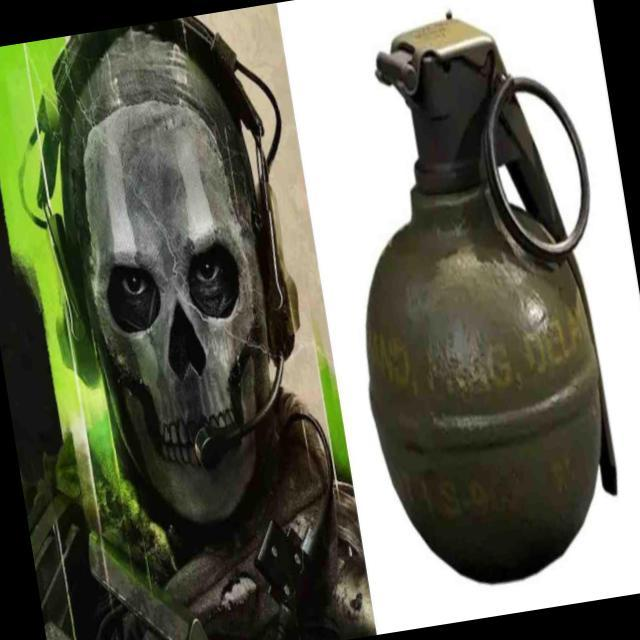grenade: (321, 2, 640, 599)
